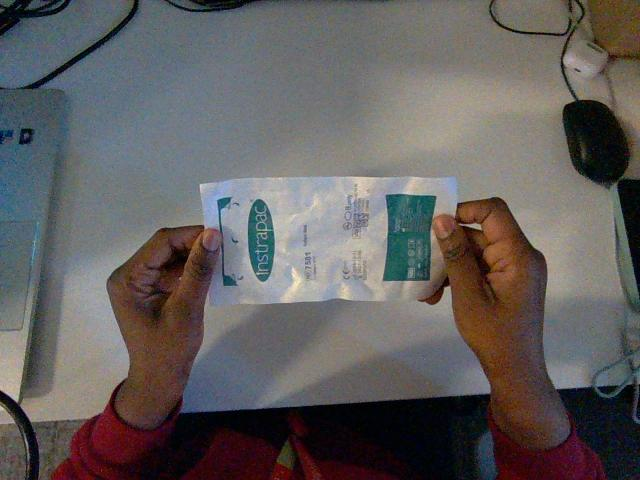gallipot: (200, 177, 456, 304)
